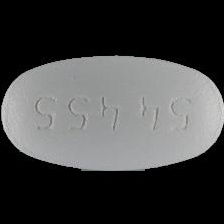0054-0348: (0, 0, 224, 224)
